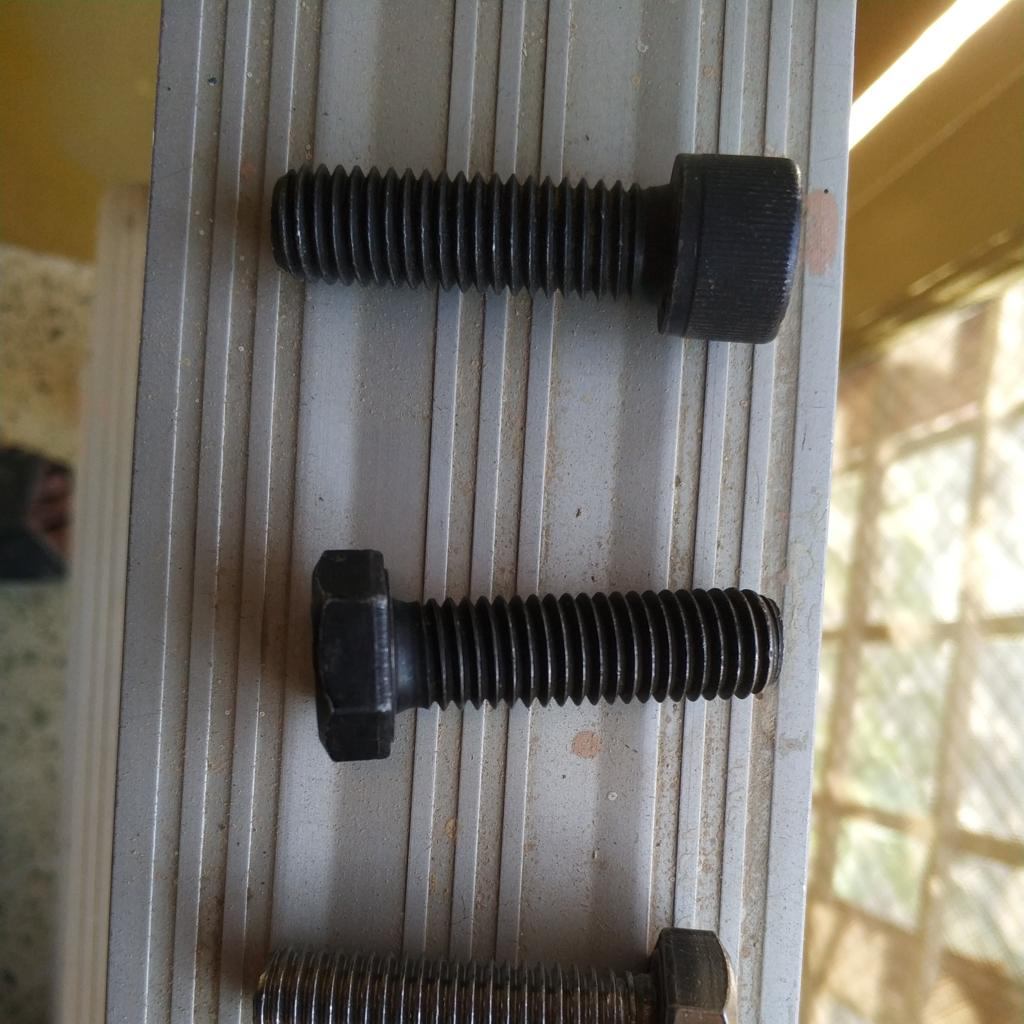screwtype1black: (274, 143, 805, 353)
screwtype2black: (303, 542, 790, 755)
screwtype2silver: (231, 925, 741, 1024)
